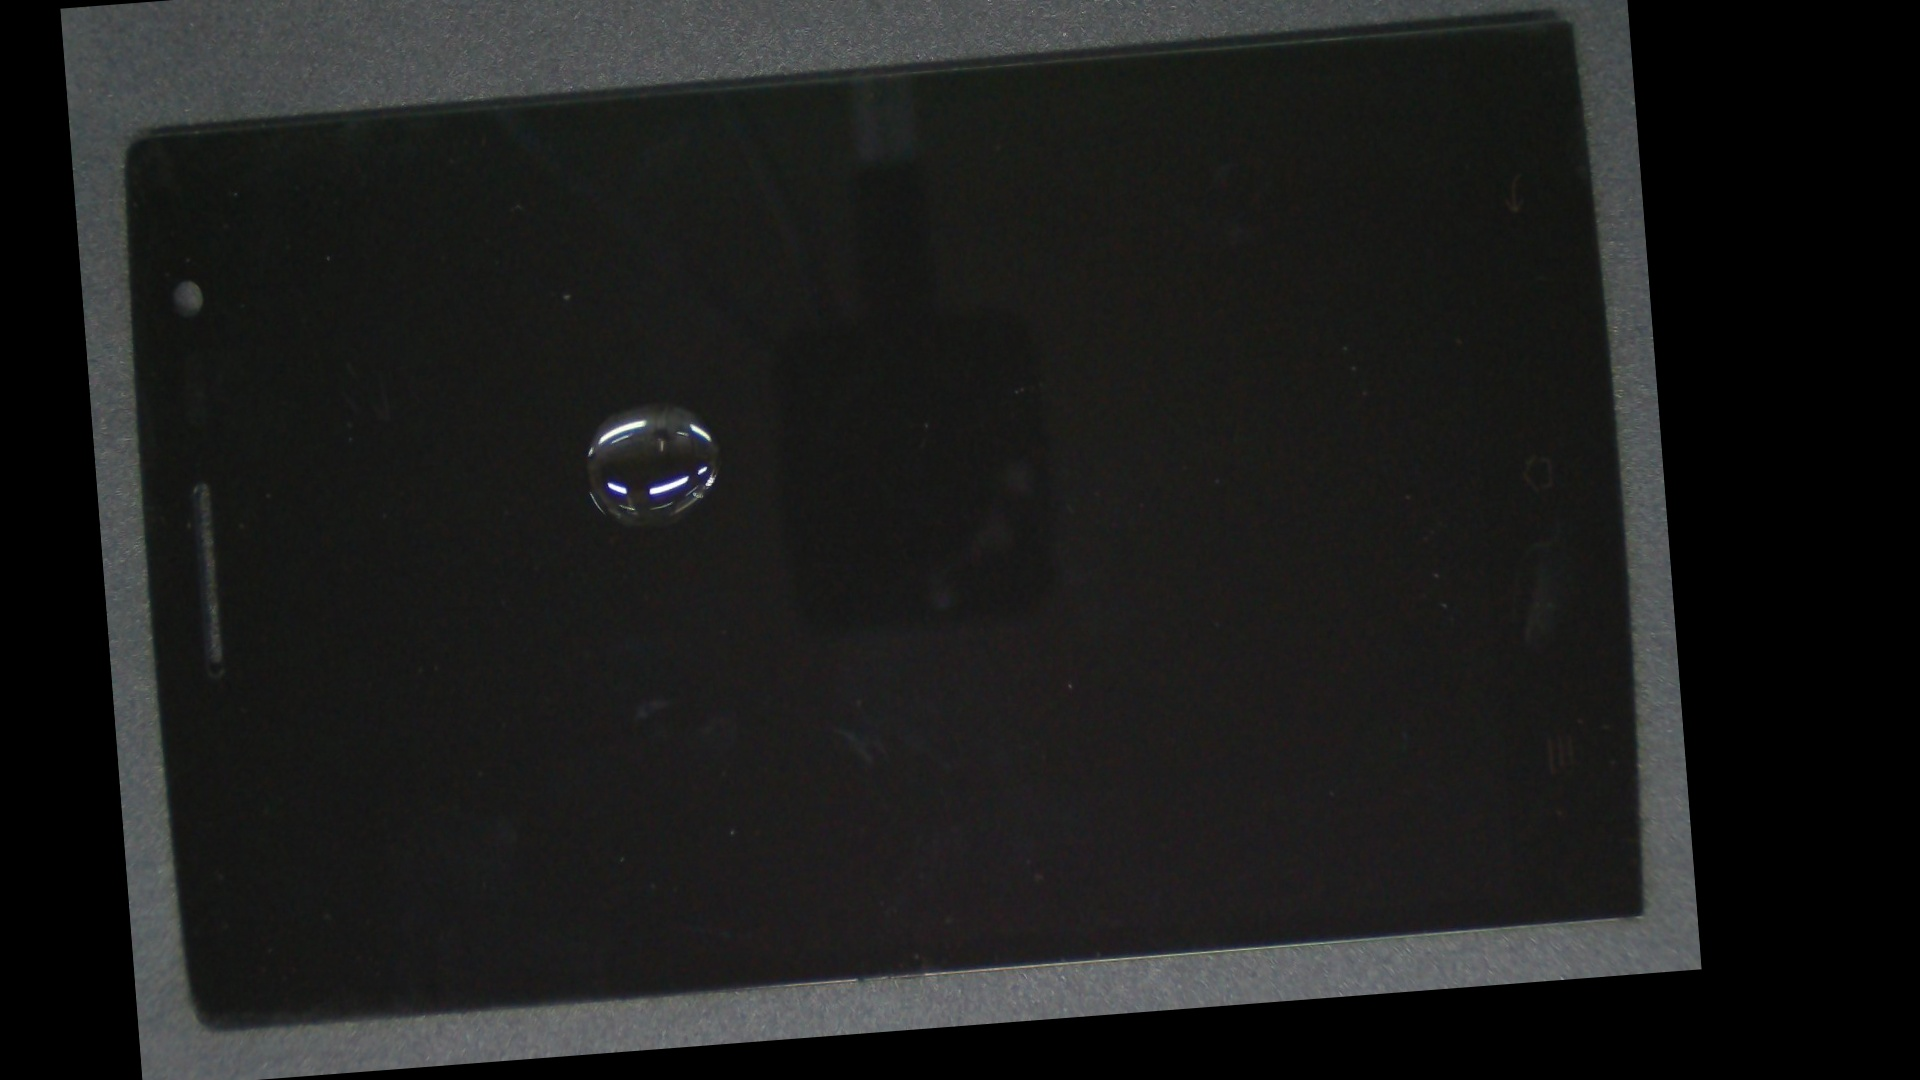oil: (356, 162, 944, 644)
